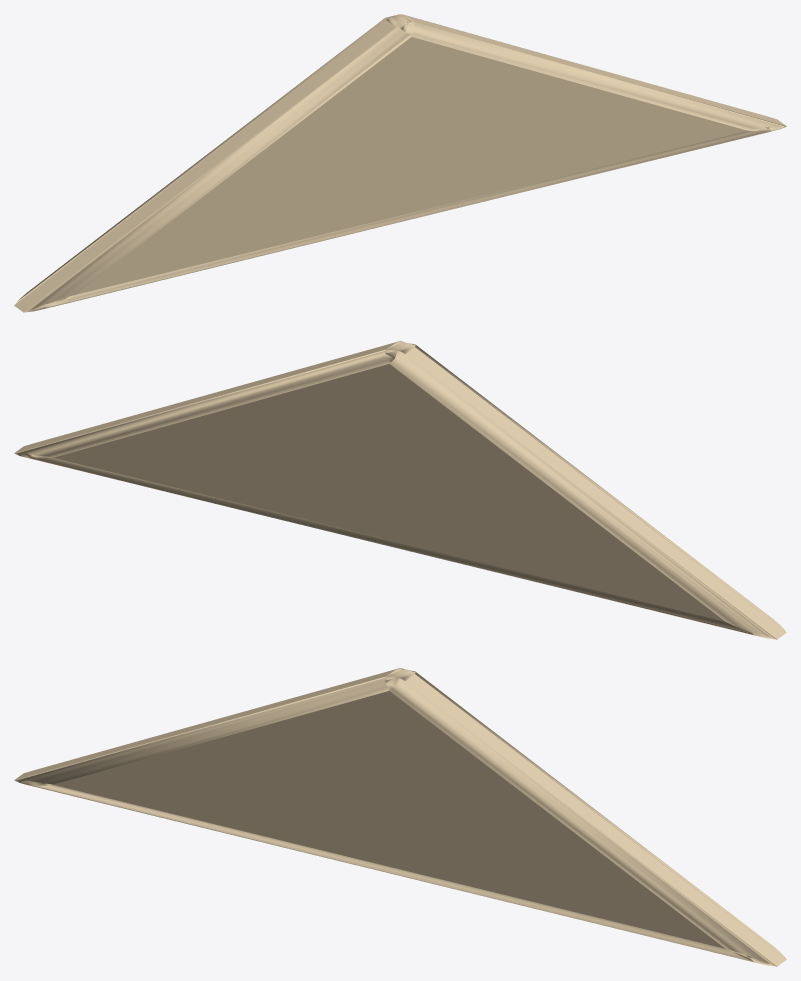
The model's file is Gable.glb.
3 views of the same model, one above another, from view 1: azimuth 30°, elevation 25°; view 2: azimuth 150°, elevation 25°; view 3: azimuth 330°, elevation 25° (orthographic).
Parts seen in each view (by area): view 1: PBK_gable.003; view 2: PBK_gable.003; view 3: PBK_gable.003.
Part boxes in pixels (x1,y1,x2,y2): PBK_gable.003: [14, 14, 786, 312]; PBK_gable.003: [14, 341, 786, 639]; PBK_gable.003: [14, 668, 786, 966].
Bounding box in the file's own units: 4 × 0.9848 × 0.2.
